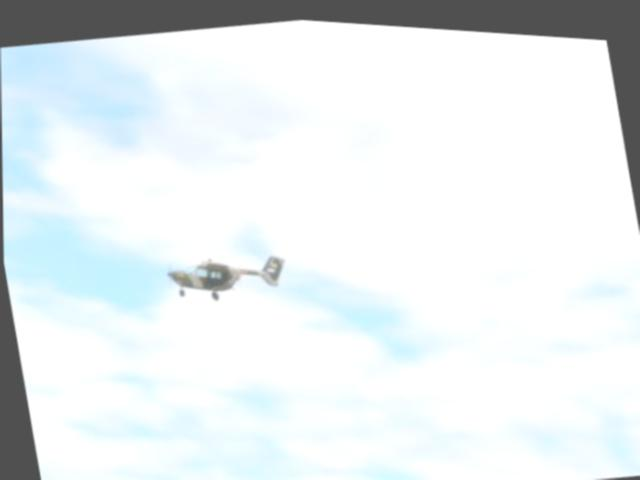uav: (161, 236, 294, 312)
